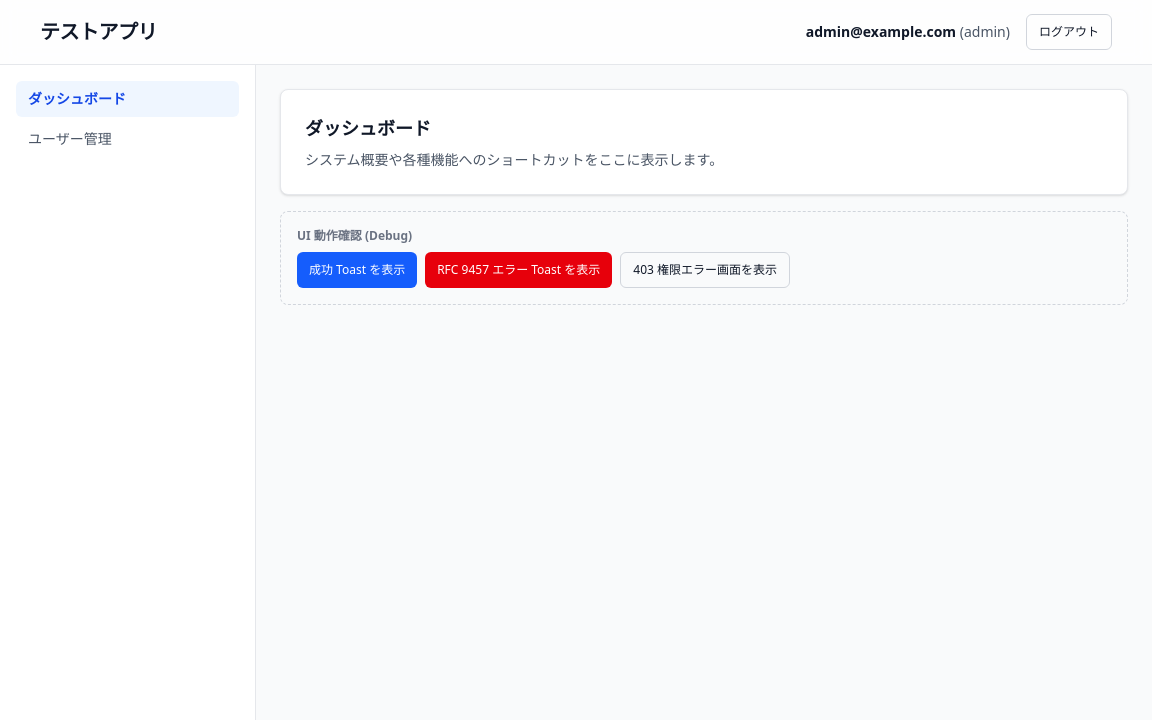
Test: App Component Integration Tests › admin ユーザーの場合、サイドナビに「ユーザー管理」が表示され、クリックすると管理画面に切り替わること
The image size is (1152, 720).
Note: クリックしてユーザー管理画面を表示
Click the link "ユーザー管理" at point(70, 138), box x1=28 y1=129 x2=112 y2=148
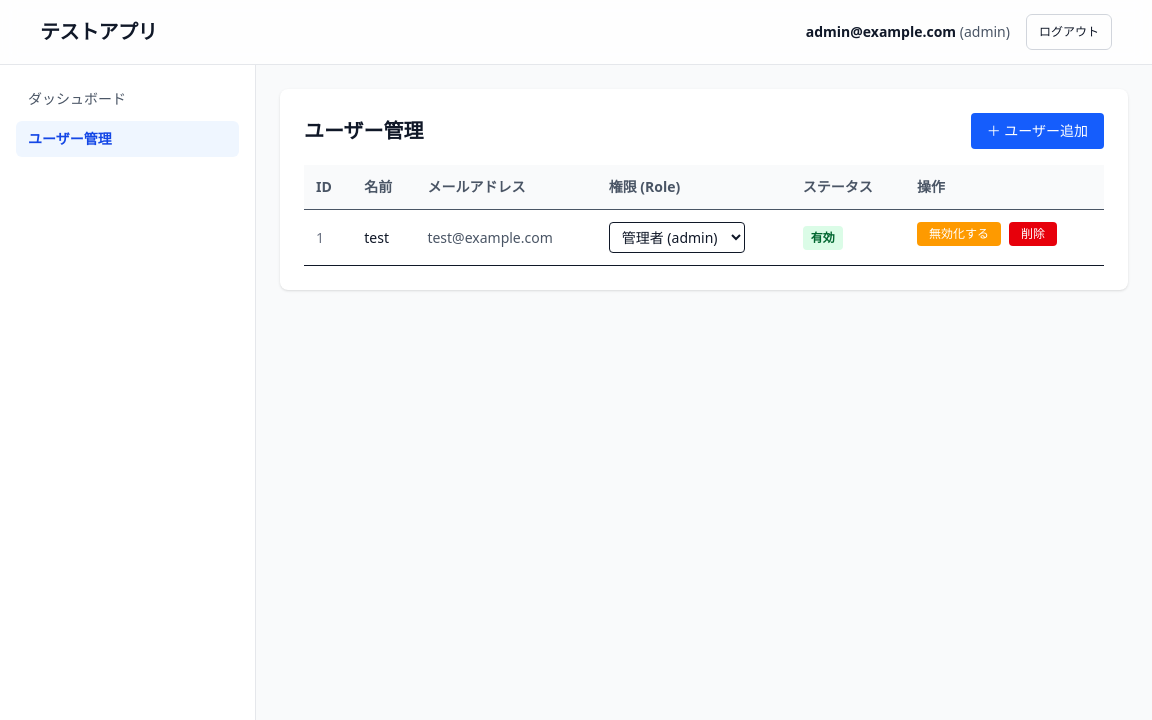
Check: the heading "ユーザー管理" is shown, box x1=304 y1=117 x2=424 y2=145
